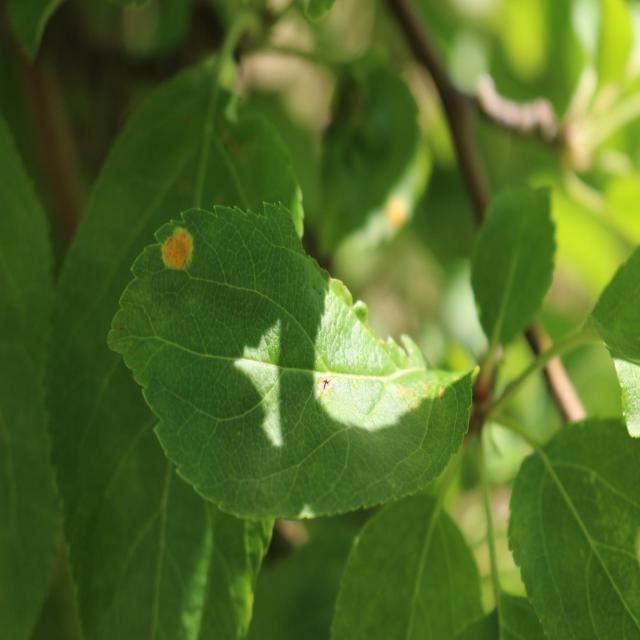Rust: (145, 211, 207, 294)
